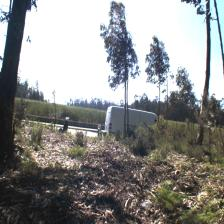trunktrack_idkeyframe: (0, 17, 25, 138), (196, 24, 214, 151)
